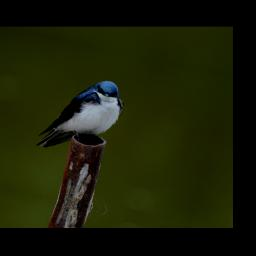Swallow: (33, 69, 131, 162)
